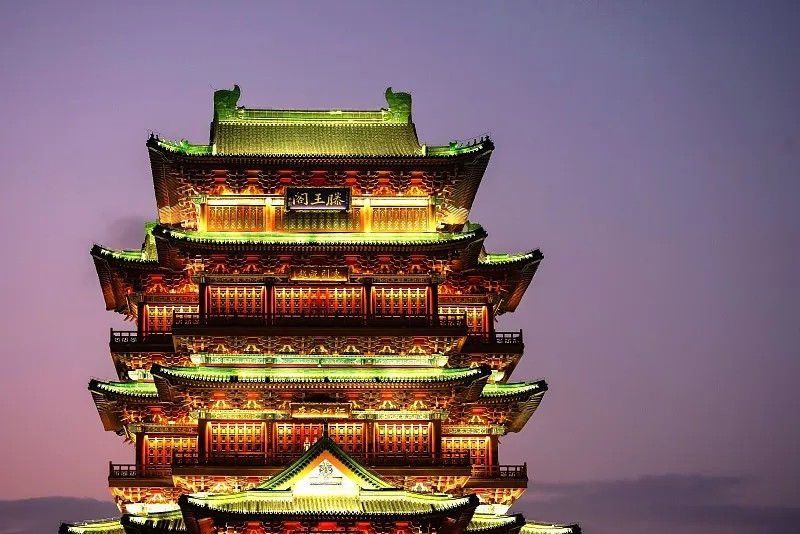Teng: (57, 84, 580, 534)
